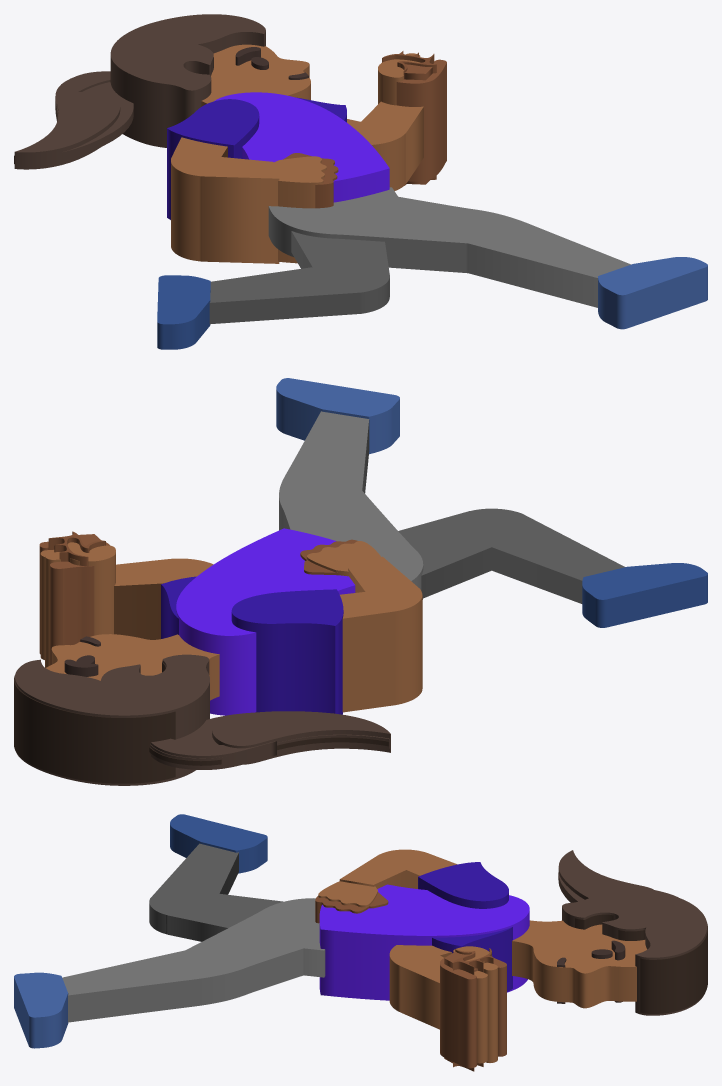
File: emoji_u1f3c3_1f3fe_200d_2640_200d_27a1.glb
3 renders of one model, top to bottom at view 1: azimuth 30°, elevation 25°; view 2: azimuth 150°, elevation 25°; view 3: azimuth 270°, elevation 25°, orthographic. The views are drawn at different scales.
Parts seen in each view (by area): view 1: emoji_u1f3c3_1f3fe_200d_2640_200d_27a1; view 2: emoji_u1f3c3_1f3fe_200d_2640_200d_27a1; view 3: emoji_u1f3c3_1f3fe_200d_2640_200d_27a1.
Part boxes in pixels (box(x1,y1,x2,y2)): emoji_u1f3c3_1f3fe_200d_2640_200d_27a1: box(14, 14, 707, 349); emoji_u1f3c3_1f3fe_200d_2640_200d_27a1: box(14, 378, 707, 785); emoji_u1f3c3_1f3fe_200d_2640_200d_27a1: box(14, 814, 707, 1071).
Bounding box in the file's own units: 0.023 × 0.0054 × 0.0325.
